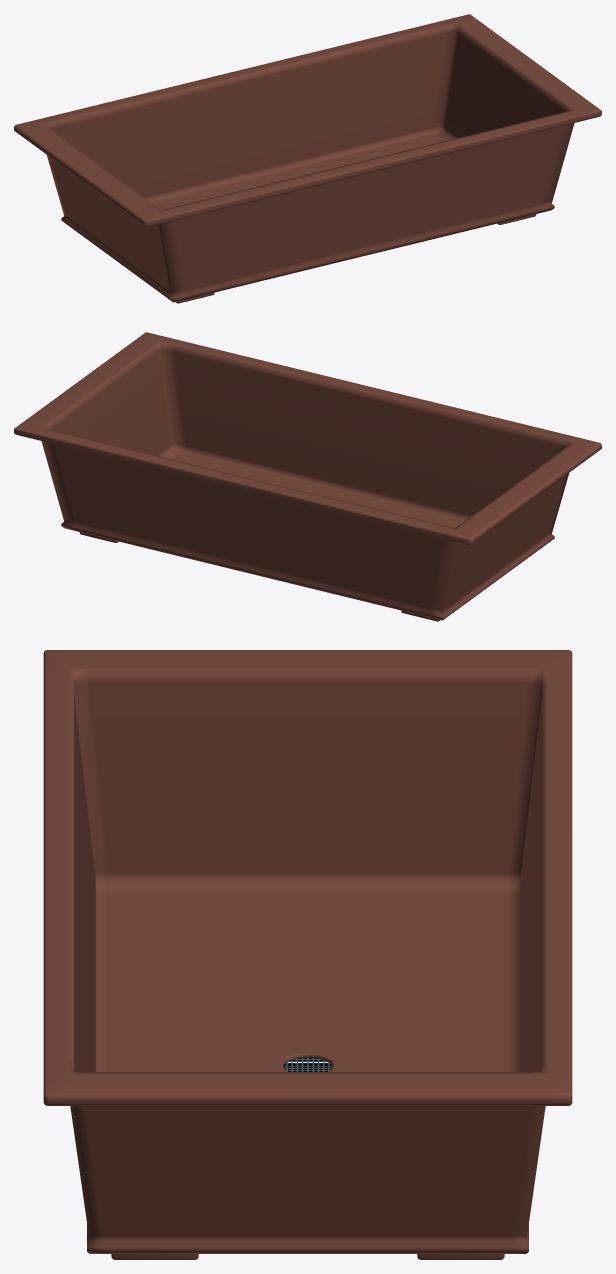
File: Pot1.fbx
3 views of the same model, one above another, from view 1: azimuth 30°, elevation 25°; view 2: azimuth 150°, elevation 25°; view 3: azimuth 270°, elevation 25° (orthographic). The views are drawn at different scales.
Parts seen in each view (by area): view 1: PotRect1; view 2: PotRect1; view 3: PotRect1, PotRectFeet1.
Part boxes in pixels (x1,y1,x2,y2): PotRect1: (14,14,601,302); PotRect1: (14,332,601,620); PotRect1: (43,650,572,1253); PotRectFeet1: (111,1254,504,1259).
Size of the model in its own units: 242 by 54.15 by 121.
3 materials, 3 textured.
